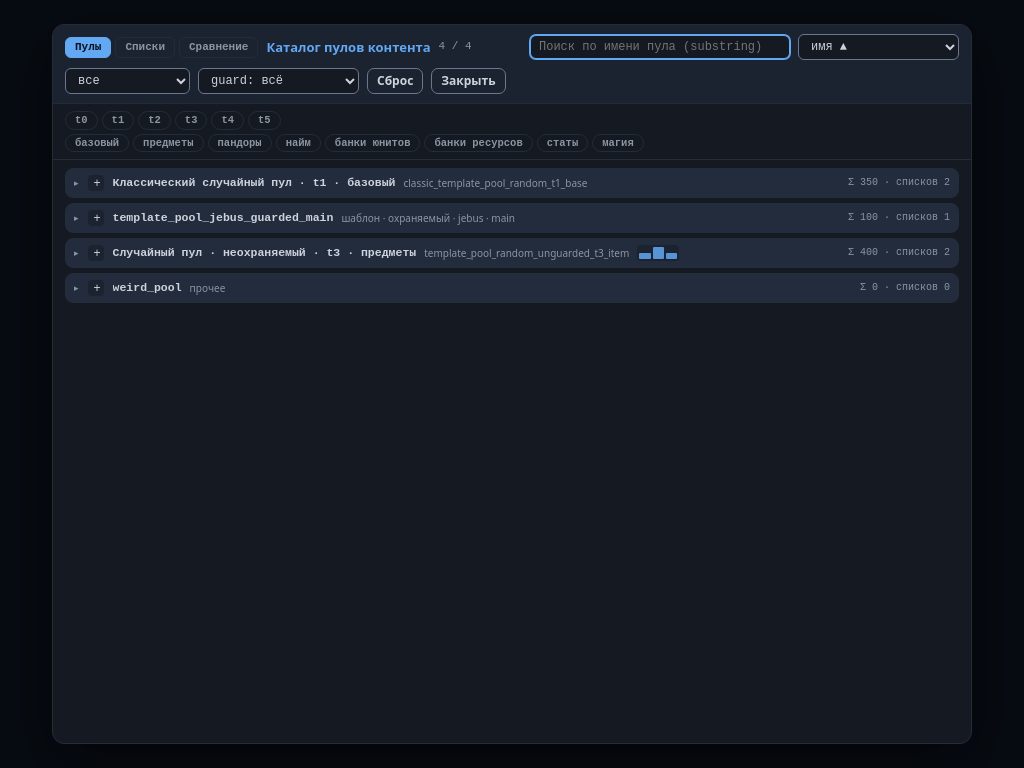
Test: PoolBrowser › чипы профилей переведены и фильтруют рандомные пулы
Check: the text "weird_pool" is shown, box 112,280 -> 182,296
Check: the button "банки юнитов" is shown, box 325,134 -> 420,152
Click the button "предметы".
click(168, 143)  # box 133,134 -> 204,152
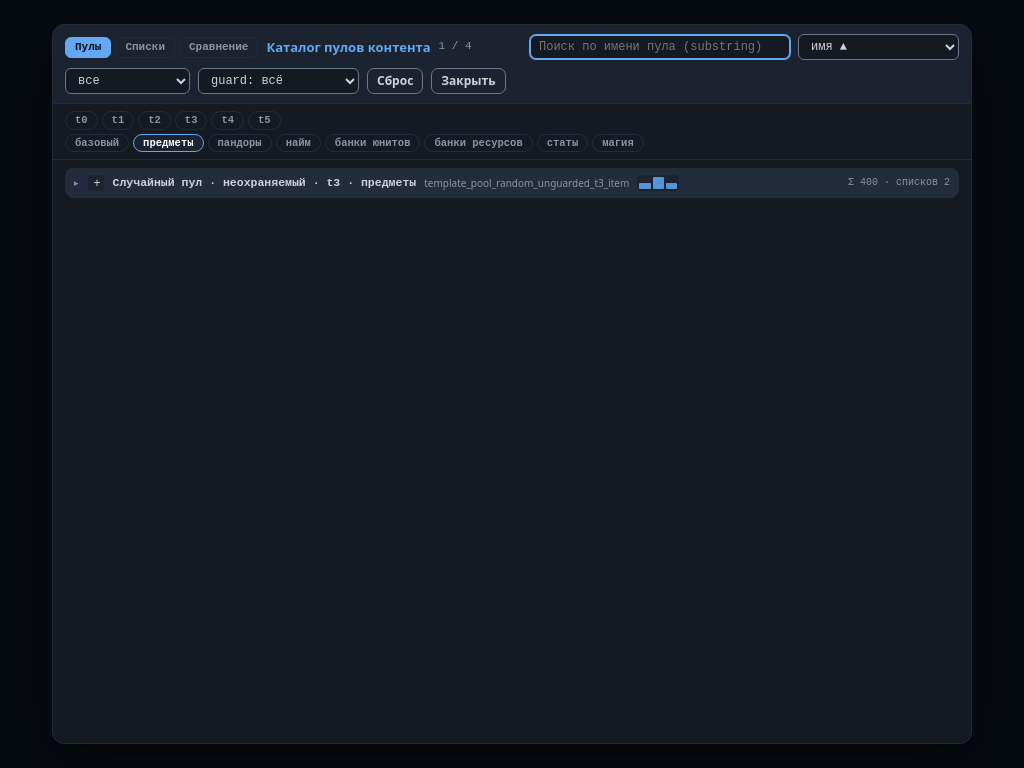
Check: the text "template_pool_random_unguarded_t3_item" is shown, box 424,176 -> 629,190
Check: the heading "classic_template_pool_random_t1_base" is gone
Check: the text "1 / 4" is shown, box 438,39 -> 472,55
